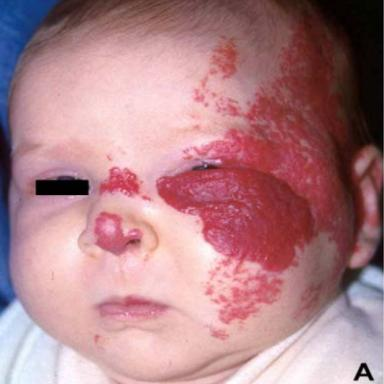Hemangiome: (157, 13, 350, 271), (95, 212, 142, 254), (99, 167, 139, 197)
